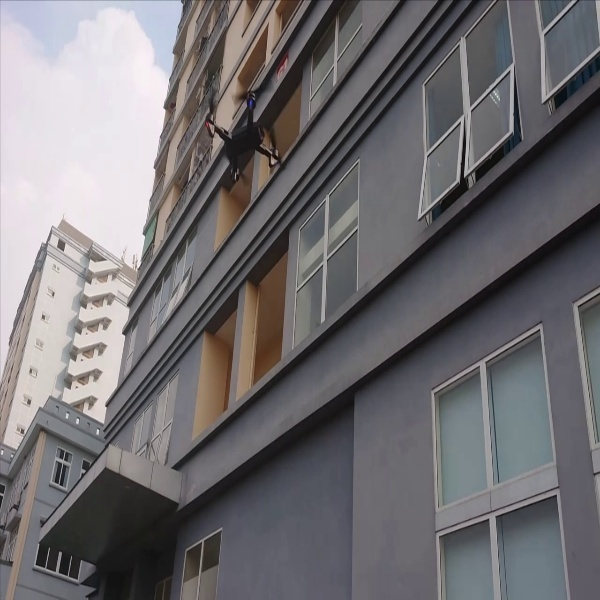drone: (201, 81, 294, 188)
